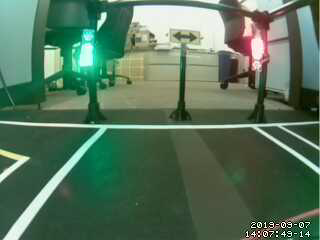Left_Right_sign: (169, 29, 202, 47)
Traffic_light_green: (81, 32, 93, 69)
Traffic_light_red: (252, 33, 264, 67)
